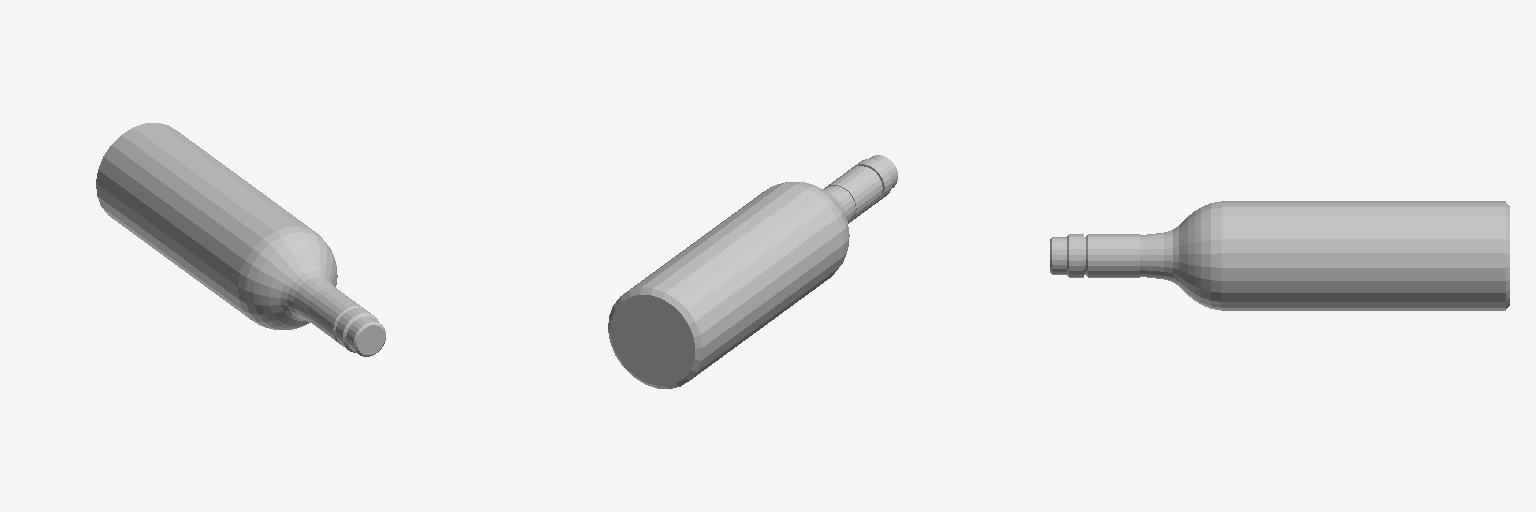
3 views of the same model, side by side, from view 1: azimuth 30°, elevation 25°; view 2: azimuth 150°, elevation 25°; view 3: azimuth 270°, elevation 25° (orthographic).
Parts seen in each view (by area): view 1: bottle of cabernet sauvignon; view 2: bottle of cabernet sauvignon; view 3: bottle of cabernet sauvignon.
Boxes of the visible parts, x1,y1,x2,y2 form: bottle of cabernet sauvignon: [96, 123, 385, 356]; bottle of cabernet sauvignon: [608, 155, 897, 388]; bottle of cabernet sauvignon: [1050, 201, 1509, 310].
Bounding box in the file's own units: 4.04 × 4.04 × 17.04.